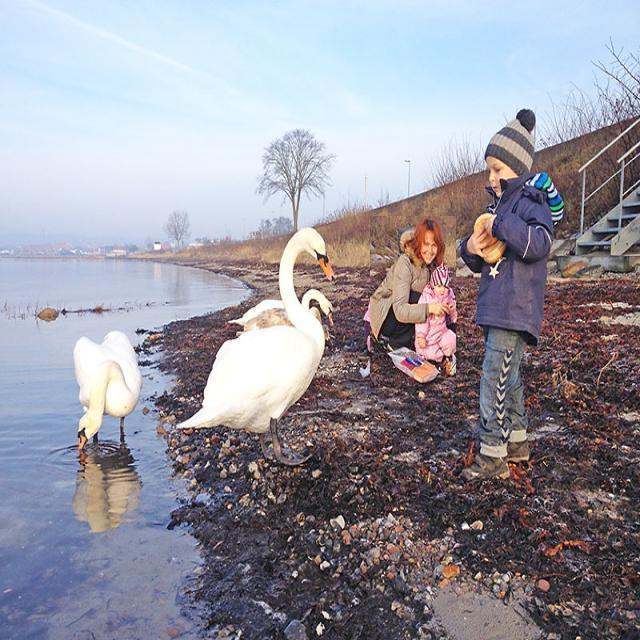direk: (458, 106, 556, 462), (370, 216, 456, 388)
